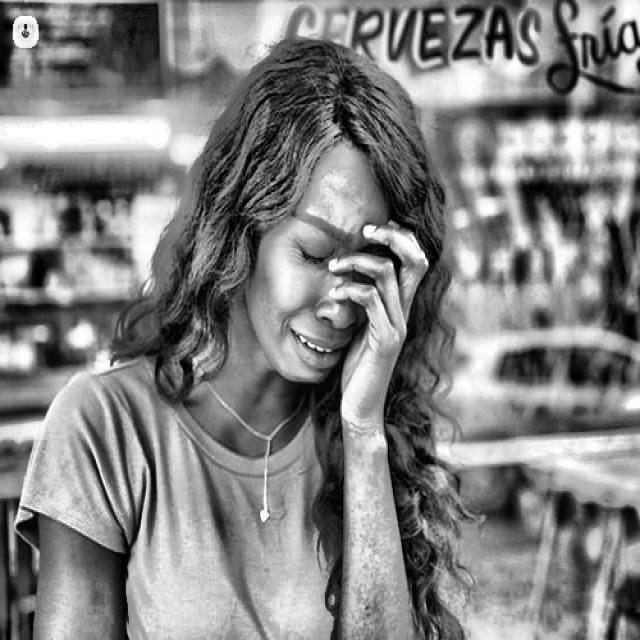sad: (180, 38, 444, 402)
